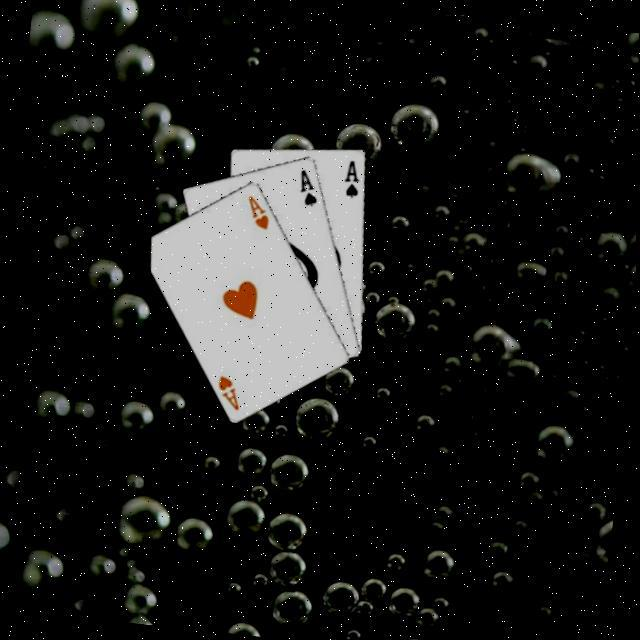AH: (214, 369, 248, 411), (243, 190, 276, 230)
AS: (295, 164, 324, 207), (341, 154, 366, 198)
